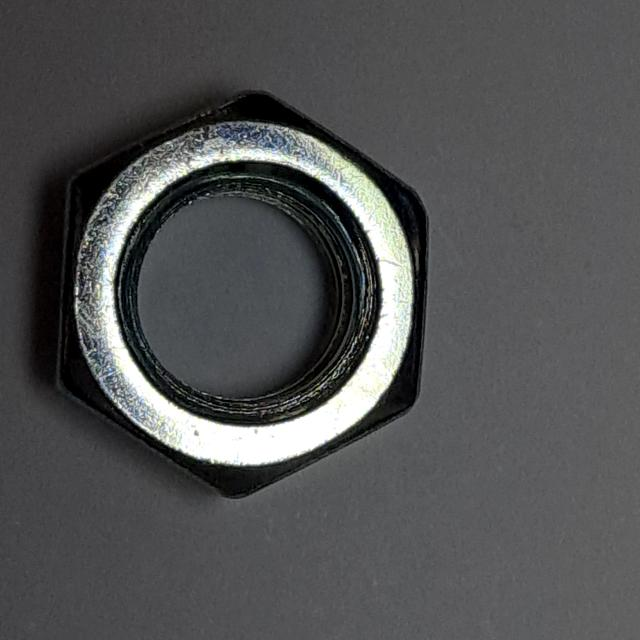Excellent: (49, 66, 446, 512)
